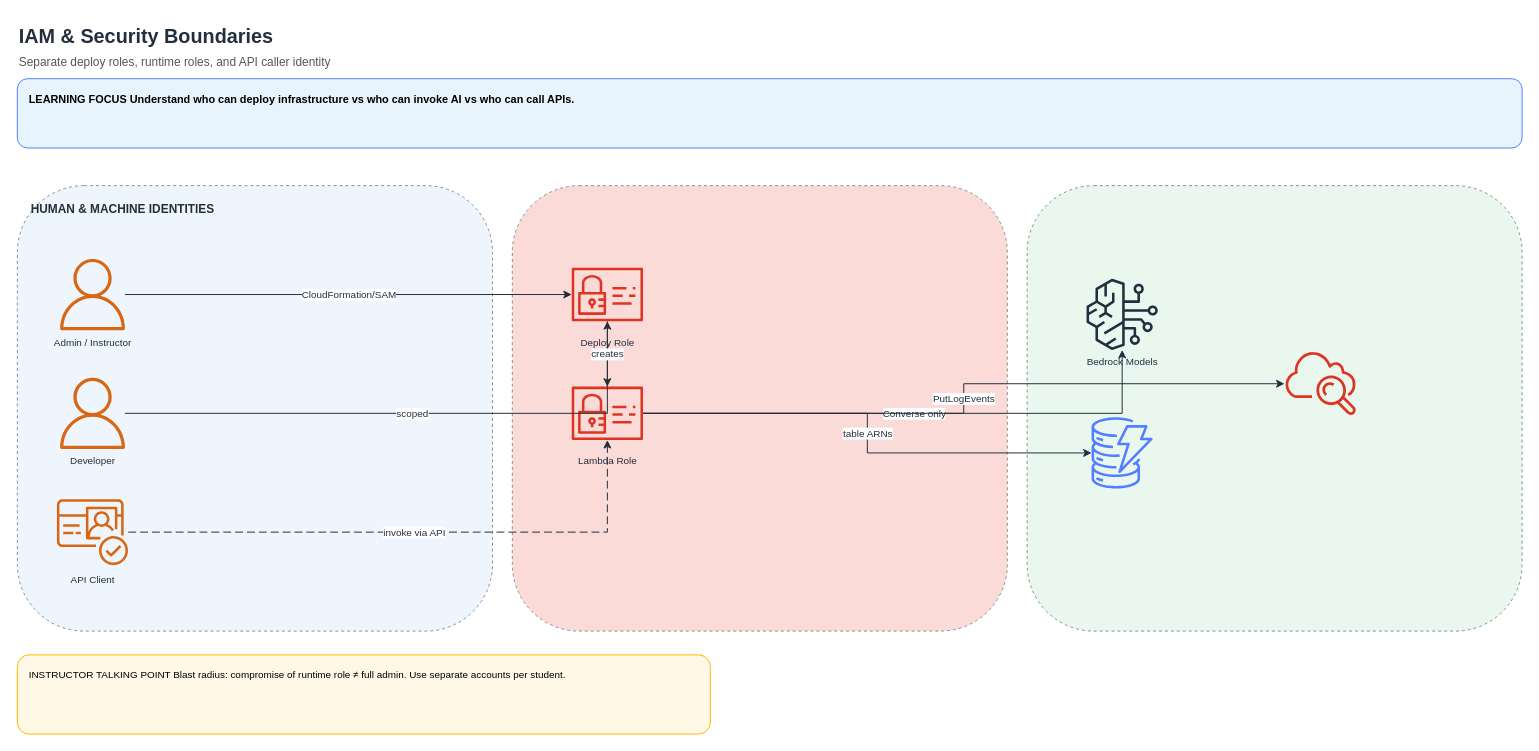
Some shapes in this 1539 by 751 pixel diagram are drawn without their labels. Here are the shapes that lost their labels. From the top down, the box of each, then its label:
(1284, 347, 1356, 419): CloudWatch Logs
(511, 185, 1007, 631): IAM ROLES
(1026, 185, 1522, 631): PROTECTED RESOURCES
(1086, 416, 1158, 489): DynamoDB / S3
